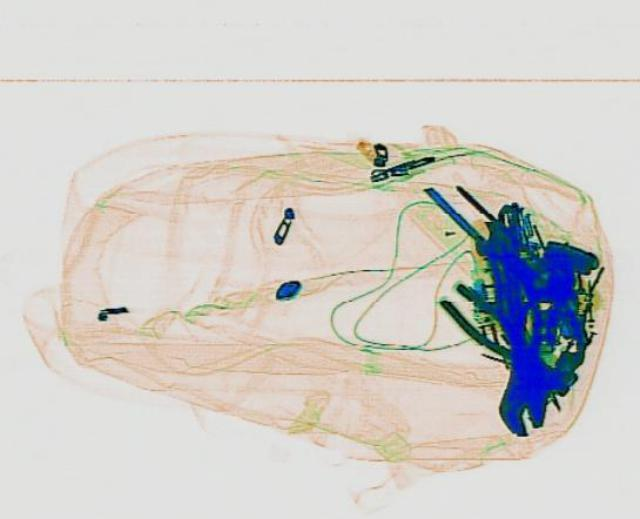Pliers: (427, 278, 583, 403)
Wrench: (480, 203, 550, 434)
